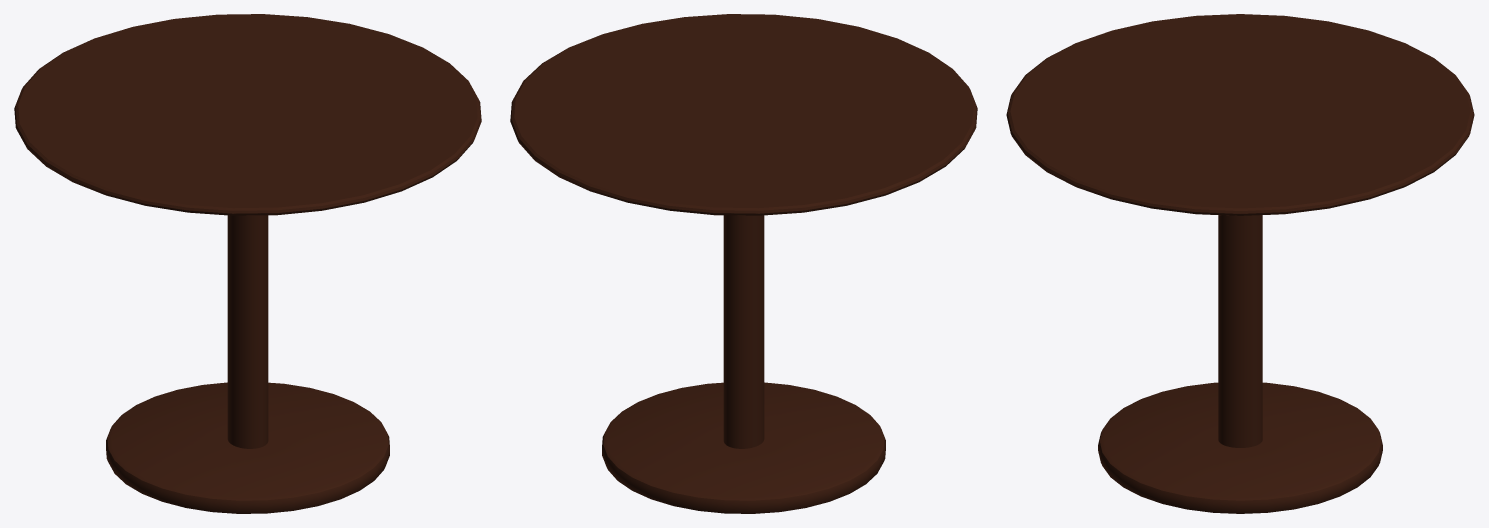
The model's file is Table_yes_.fbx.
3 views of the same model, side by side, from view 1: azimuth 30°, elevation 25°; view 2: azimuth 150°, elevation 25°; view 3: azimuth 270°, elevation 25° (orthographic).
Visible parts, largest first — view 1: Cylinder; view 2: Cylinder; view 3: Cylinder.
Boxes of the visible parts, bbox=[...] form: Cylinder: bbox=[14, 14, 481, 513]; Cylinder: bbox=[510, 14, 977, 513]; Cylinder: bbox=[1006, 14, 1474, 513].
Bounding box in the file's own units: 329 × 267 × 329.
